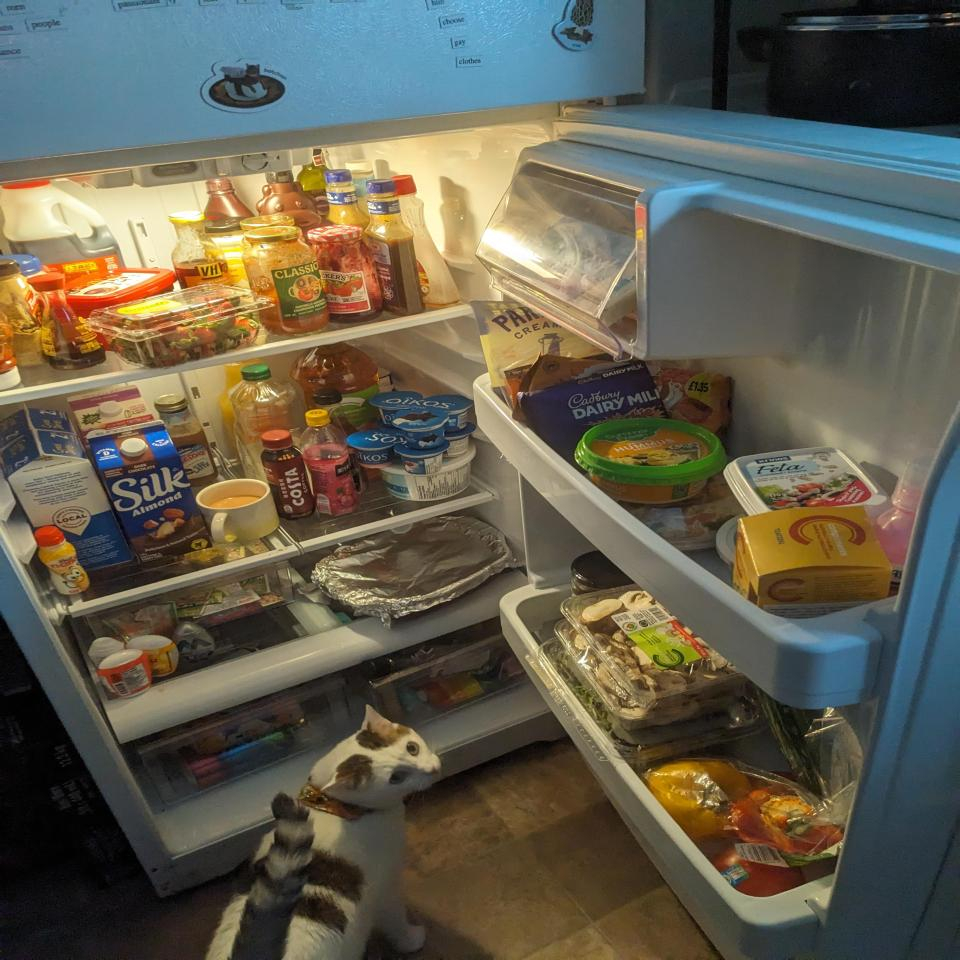Queso: (475, 302, 612, 406)
Tomate: (713, 845, 807, 899)
bell pepper: (644, 758, 751, 839)
ketchup: (0, 311, 22, 392)
mustard: (0, 260, 56, 367)
strawberries: (87, 284, 275, 368)
